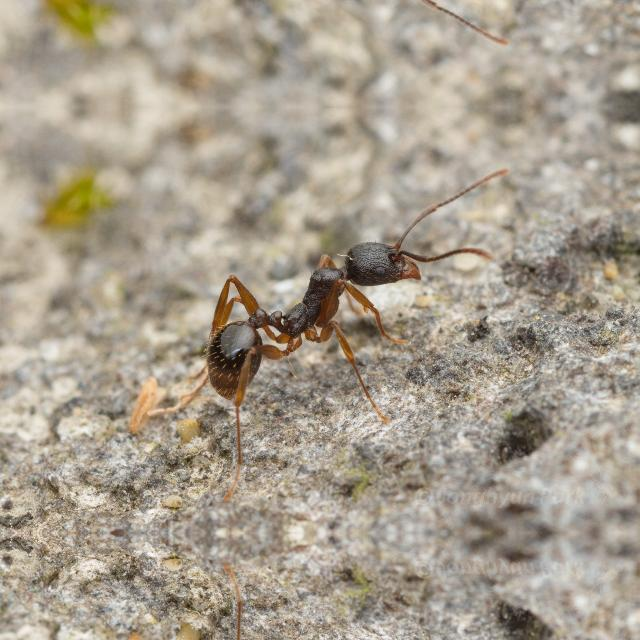Apheanogaster: (154, 204, 470, 420)
